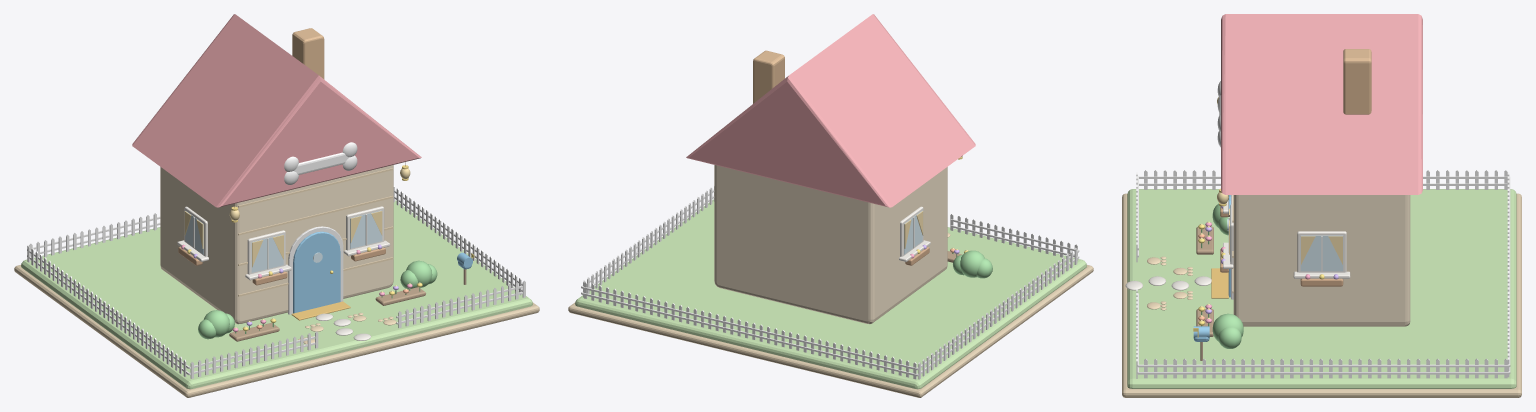
Rendered from building_pets_L08.glb.
3 views of the same model, side by side, from view 1: azimuth 30°, elevation 25°; view 2: azimuth 150°, elevation 25°; view 3: azimuth 270°, elevation 25° (orthographic). The views are drawn at different scales.
Parts seen in each view (by area): view 1: Body, pets_L8; view 2: Body, pets_L8; view 3: Body, pets_L8.
Part boxes in pixels (bbox=[...]): Body: bbox=[132, 14, 421, 344]; pets_L8: bbox=[14, 185, 539, 397]; Body: bbox=[686, 14, 975, 324]; pets_L8: bbox=[568, 186, 1093, 397]; Body: bbox=[1147, 14, 1422, 326]; pets_L8: bbox=[1122, 170, 1521, 397].
Bounding box in the file's own units: 26.61 × 17.82 × 22.6.
